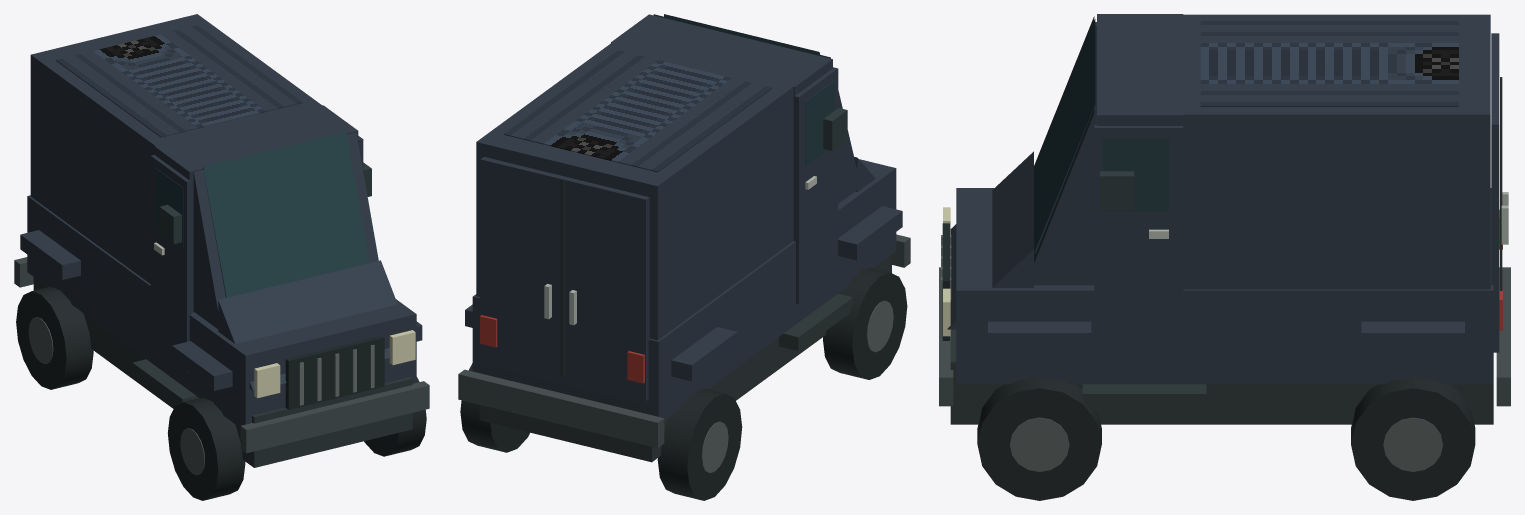
Rendered from CMU3DReduxVehicleBoxVan.glb.
3 renders of one model, left to right at view 1: azimuth 30°, elevation 25°; view 2: azimuth 150°, elevation 25°; view 3: azimuth 270°, elevation 25°, orthographic. The views are drawn at different scales.
Visible parts, largest first — view 1: enclosed rear body, windshield, lower vehicle body, source roof livery, rubber road tire (×3), front hood, cab door skin, bumper (×2), sealed chassis, cab bulkhead, sloping cab frame, front grille (+6 smaller); view 2: enclosed rear body, rear double doors, lower vehicle body, source roof livery, rubber road tire (×3), cab bulkhead, cab door skin, bumper (×2), sealed chassis, wheel fender (×2), recessed metal wheel hub (×2), running board (+6 smaller); view 3: enclosed rear body, lower vehicle body, source roof livery, rubber road tire (×2), cab door skin, sealed chassis, cab bulkhead, sloping cab frame, wheel fender (×2), windshield, front hood, recessed metal wheel hub (×2) (+5 smaller).
Part boxes in pixels (<box>): enclosed rear body: <box>30,14,327,283</box>; windshield: <box>203,131,369,297</box>; lower vehicle body: <box>27,195,416,427</box>; source roof livery: <box>56,25,302,137</box>; rubber road tire (×3): <box>16,286,426,500</box>; front hood: <box>218,260,397,390</box>; cab door skin: <box>150,155,191,372</box>; bumper (×2): <box>14,257,429,453</box>; sealed chassis: <box>33,277,412,467</box>; cab bulkhead: <box>154,105,358,312</box>; sloping cab frame: <box>193,132,378,328</box>; front grille: <box>285,335,384,409</box>; enclosed rear body: <box>476,38,796,340</box>; rear double doors: <box>480,157,649,400</box>; lower vehicle body: <box>472,159,896,420</box>; source roof livery: <box>504,50,772,172</box>; rubber road tire (×3): <box>460,267,907,500</box>; cab bulkhead: <box>611,14,832,241</box>; cab door skin: <box>794,67,838,304</box>; bumper (×2): <box>458,234,910,447</box>; sealed chassis: <box>479,255,891,462</box>; wheel fender (×2): <box>671,206,902,381</box>; recessed metal wheel hub (×2): <box>701,300,893,472</box>; running board: <box>779,293,852,350</box>; enclosed rear body: <box>1169,14,1490,289</box>; lower vehicle body: <box>956,188,1493,384</box>; source roof livery: <box>1200,21,1458,106</box>; rubber road tire (×2): <box>977,377,1475,500</box>; cab door skin: <box>1094,125,1183,362</box>; sealed chassis: <box>950,329,1493,424</box>; cab bulkhead: <box>1097,14,1183,125</box>; sloping cab frame: <box>1031,16,1094,285</box>; wheel fender (×2): <box>988,321,1464,351</box>; windshield: <box>1034,19,1095,253</box>; front hood: <box>947,151,1033,329</box>; recessed metal wheel hub (×2): <box>1010,417,1442,471</box>.
Bounding box in the file's own units: 1.04 × 1.45 × 1.99.
Materials: 18 (1 with a texture image).
